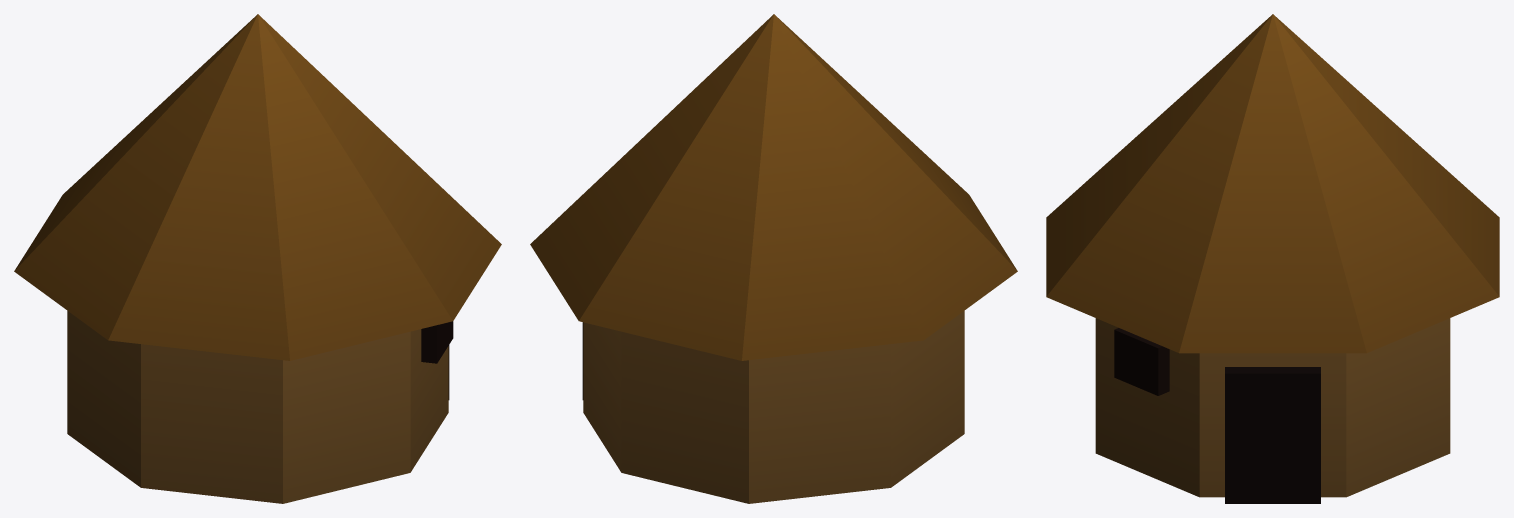
File: hut_thatch.glb
3 views of the same model, side by side, from view 1: azimuth 30°, elevation 25°; view 2: azimuth 150°, elevation 25°; view 3: azimuth 270°, elevation 25° (orthographic).
Visible parts, largest first — view 1: hut_thatch2; view 2: hut_thatch2; view 3: hut_thatch2.
Part boxes in pixels (bbox=[...]): hut_thatch2: bbox=[14, 14, 501, 503]; hut_thatch2: bbox=[530, 14, 1017, 503]; hut_thatch2: bbox=[1046, 14, 1499, 503].
Size of the model in its own units: 0.9461 by 0.94 by 0.9461.
